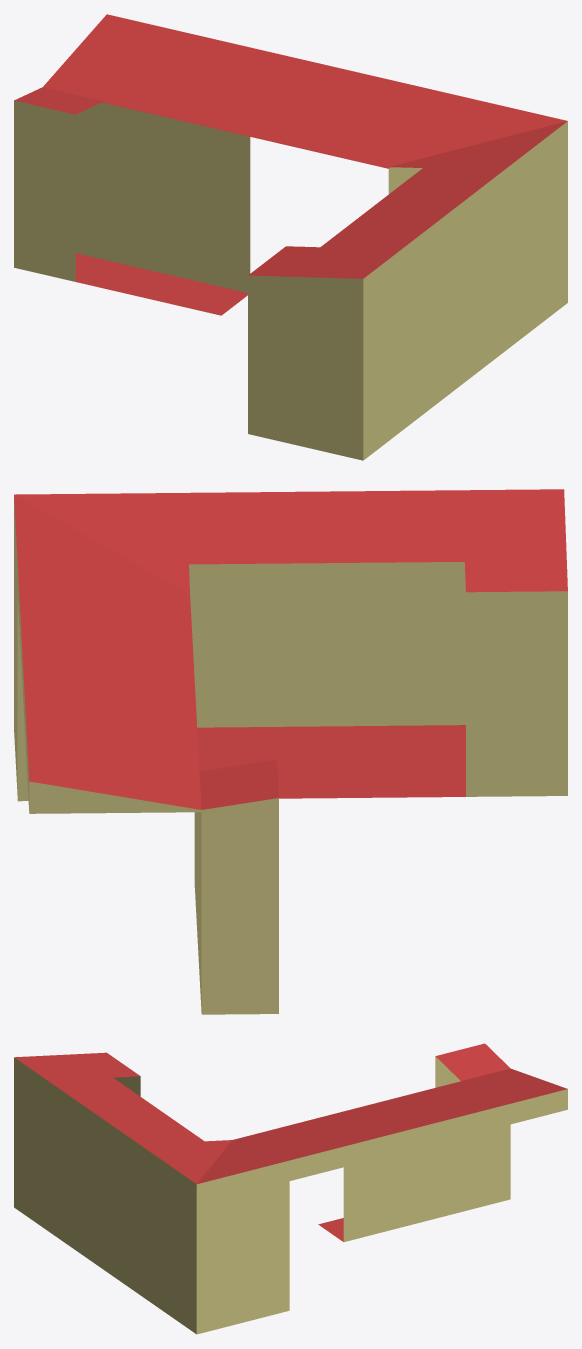
3 renders of one model, top to bottom at view 1: azimuth 30°, elevation 25°; view 2: azimuth 150°, elevation 25°; view 3: azimuth 270°, elevation 25°, orthographic. The views are drawn at different scales.
Size of the model in its own units: 23.2 by 35.5 by 10.62.
